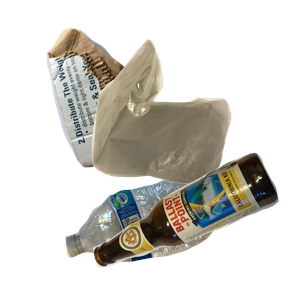cardboard: (44, 26, 209, 186)
glass: (91, 150, 300, 300)
plastic: (63, 170, 278, 300)
trash: (89, 37, 300, 213)
